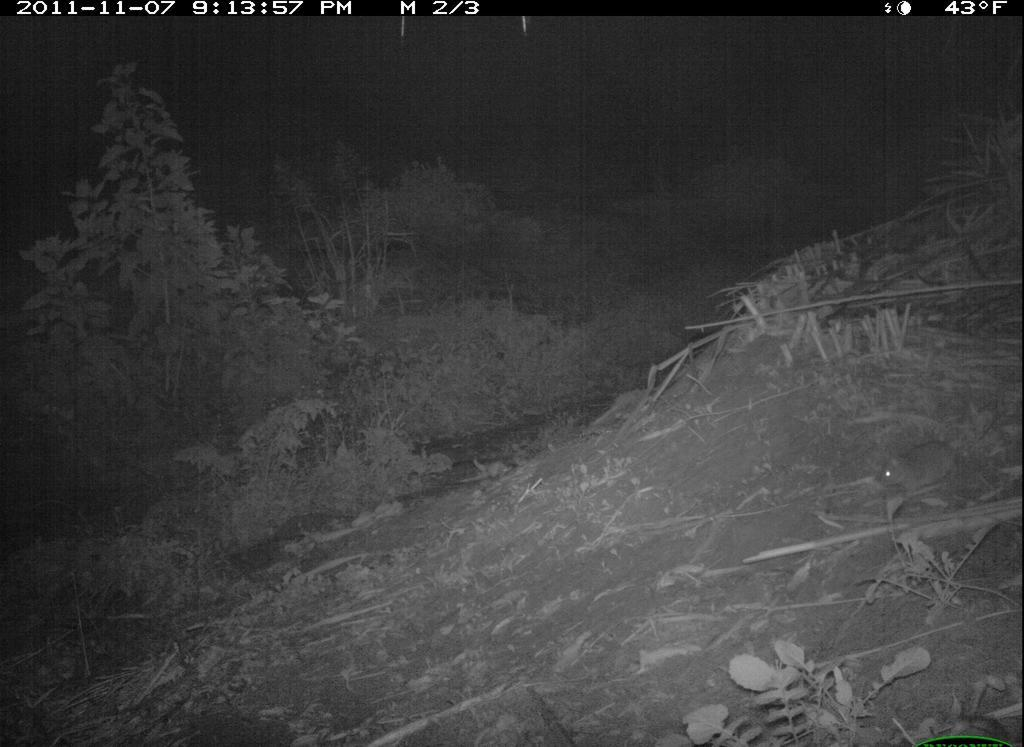rodent: (881, 424, 995, 492)
